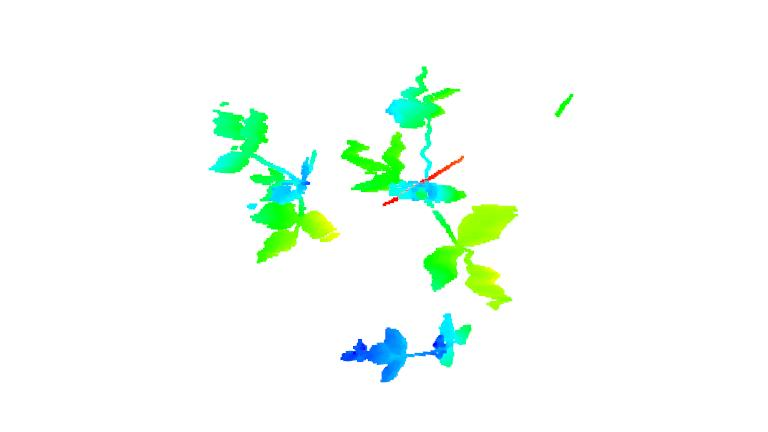mungbean: (335, 55, 520, 315), (197, 97, 344, 269), (337, 312, 479, 387)
